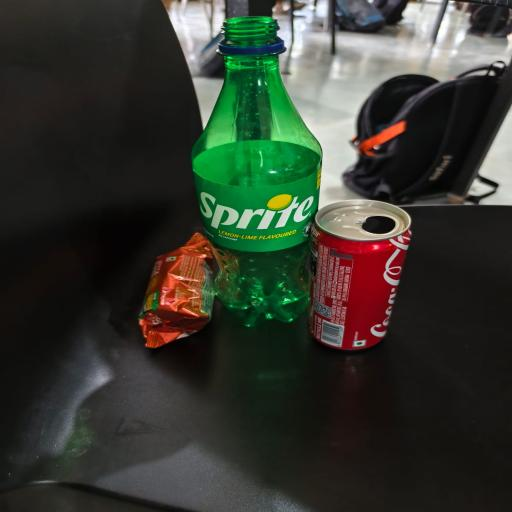Sprite: (192, 17, 322, 326)
coca_cola: (308, 200, 410, 351)
goodday: (139, 233, 214, 348)
